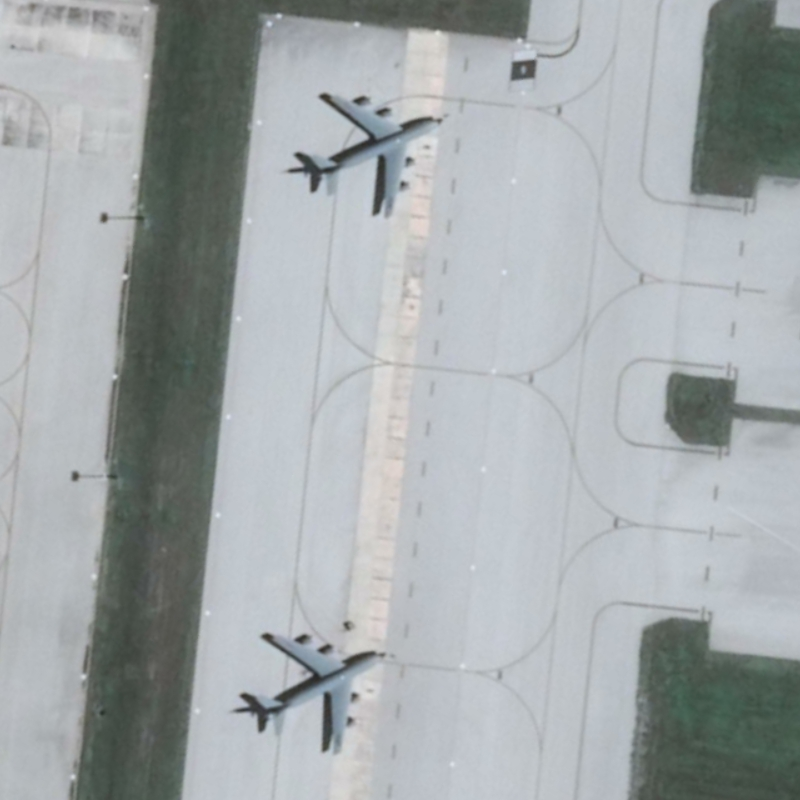A14: (287, 82, 449, 225), (236, 628, 389, 754)
